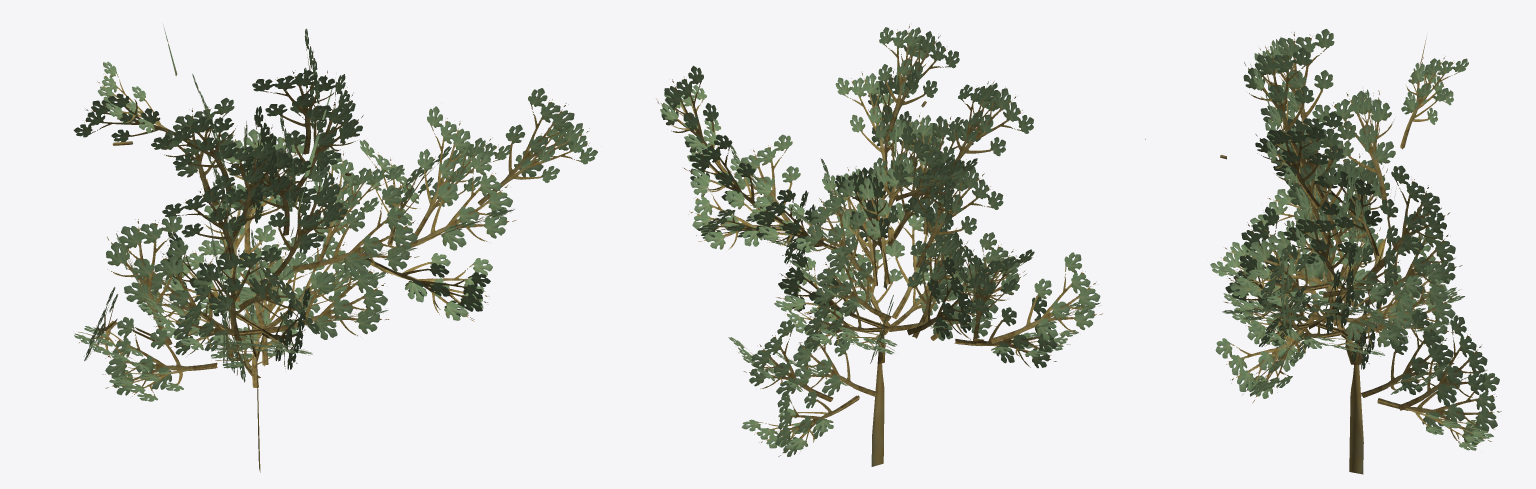
File: Classic64_Sapling_Model.fbx
3 renders of one model, left to right at view 1: azimuth 30°, elevation 25°; view 2: azimuth 150°, elevation 25°; view 3: azimuth 270°, elevation 25°, orthographic. The views are drawn at different scales.
Parts seen in each view (by area): view 1: Classic64_Sapling_Part000; view 2: Classic64_Sapling_Part000; view 3: Classic64_Sapling_Part000.
Boxes of the visible parts, left/top/right/bottom form: Classic64_Sapling_Part000: left=73, top=25, right=597, bottom=472; Classic64_Sapling_Part000: left=656, top=24, right=1102, bottom=466; Classic64_Sapling_Part000: left=1145, top=29, right=1501, bottom=474.
Bounding box in the file's own units: 1.56 × 1.33 × 1.01.
1 material, 1 textured.
